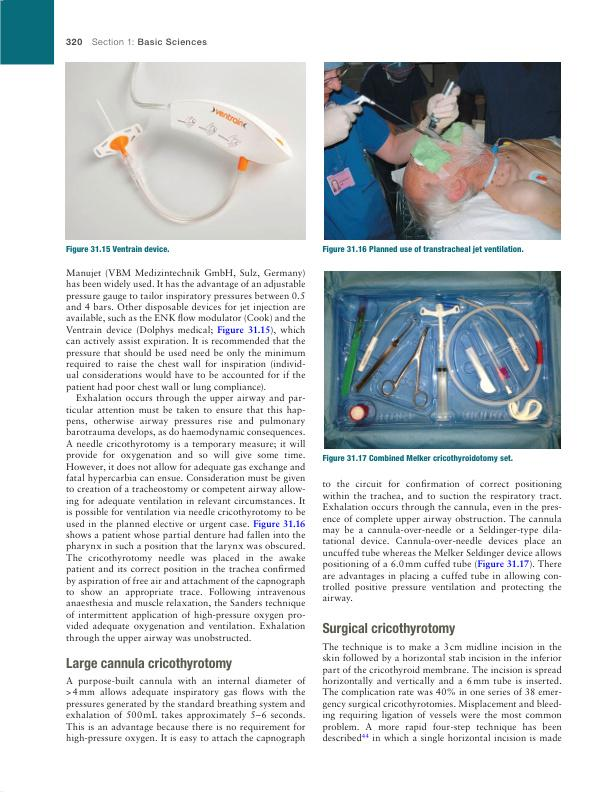caption: (322, 245, 525, 255), (322, 454, 514, 464), (65, 245, 170, 255)
header: (91, 37, 208, 47)
image: (65, 61, 306, 241), (323, 61, 562, 241), (324, 271, 561, 449)
sub-section-heading: (66, 656, 233, 672), (322, 622, 457, 637)
text: (65, 268, 306, 644), (322, 479, 563, 605), (321, 641, 562, 744), (65, 676, 307, 744)
